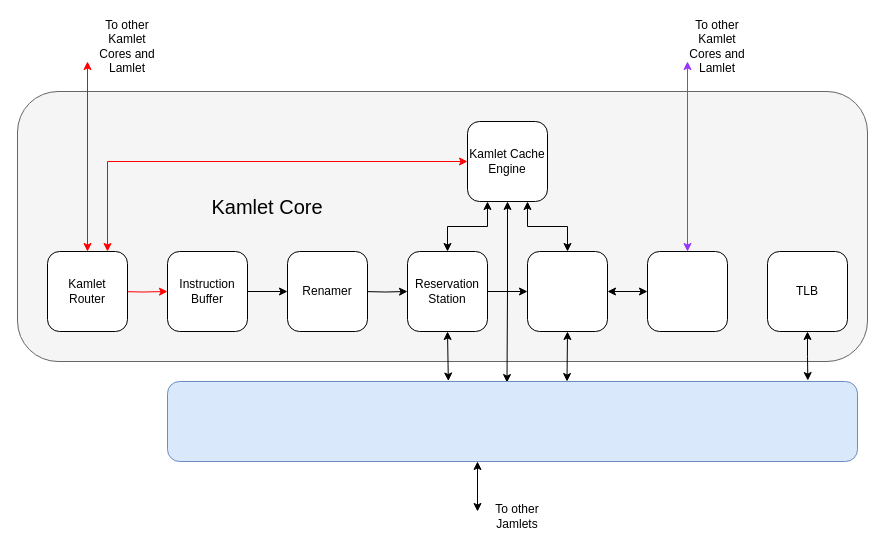
The diagram is 885 pixels wide and 548 high, and some of its shapes have lost their labels. The shapes that lost their labels are listed below. From the top down, each one's centre as x and y in pixels, then its label:
(x=567, y=291): Kamlet Transfer Engine
(x=687, y=291): Synchronizer
(x=512, y=421): Jamlets
